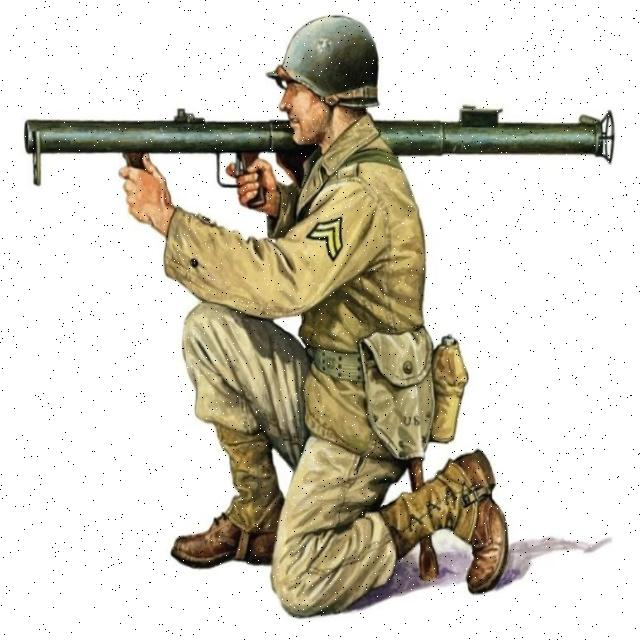bazooka: (18, 101, 629, 212)
